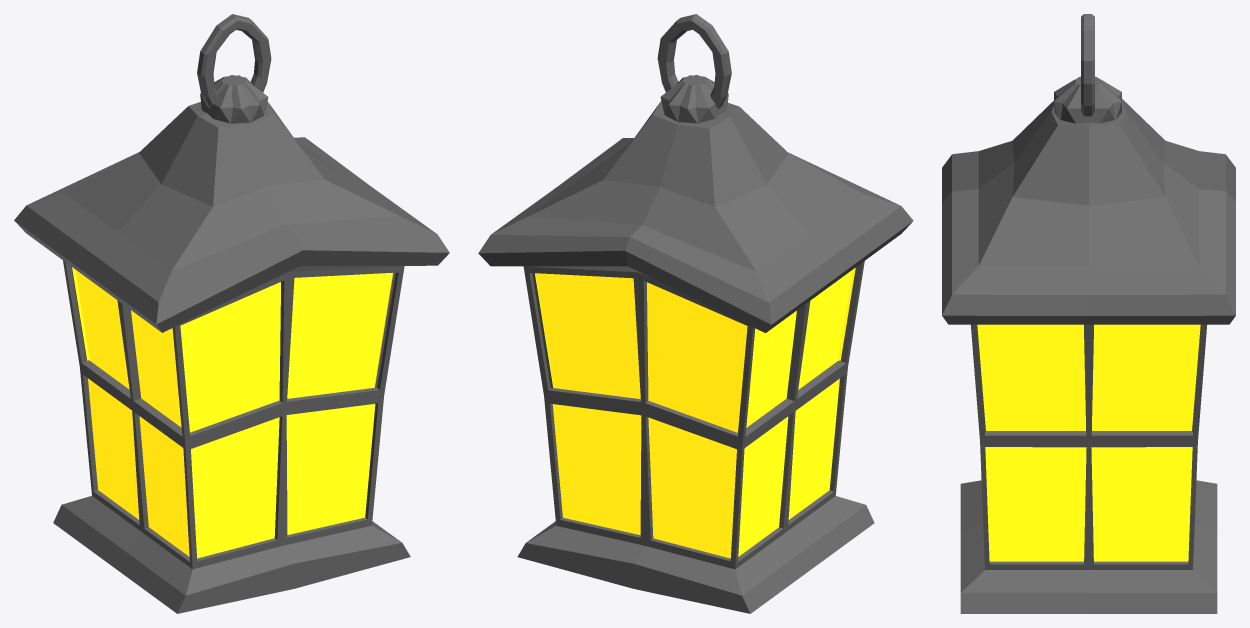
Rendered from lantern.glb.
The picture shows the model from 3 angles, left to right: view 1: azimuth 30°, elevation 25°; view 2: azimuth 150°, elevation 25°; view 3: azimuth 270°, elevation 25°; orthographic projection. The views are drawn at different scales.
Parts seen in each view (by area): view 1: Cube.009, Icosphere.002; view 2: Cube.009, Icosphere.002; view 3: Cube.009, Icosphere.002.
Boxes of the visible parts, left/top/right/bottom form: Cube.009: left=14, top=101, right=449, bottom=613; Icosphere.002: left=197, top=14, right=271, bottom=123; Cube.009: left=478, top=101, right=913, bottom=613; Icosphere.002: left=657, top=14, right=731, bottom=123; Cube.009: left=942, top=99, right=1235, bottom=613; Icosphere.002: left=1054, top=14, right=1121, bottom=123.
Size of the model in its own units: 0.4225 by 0.7259 by 0.3546.
